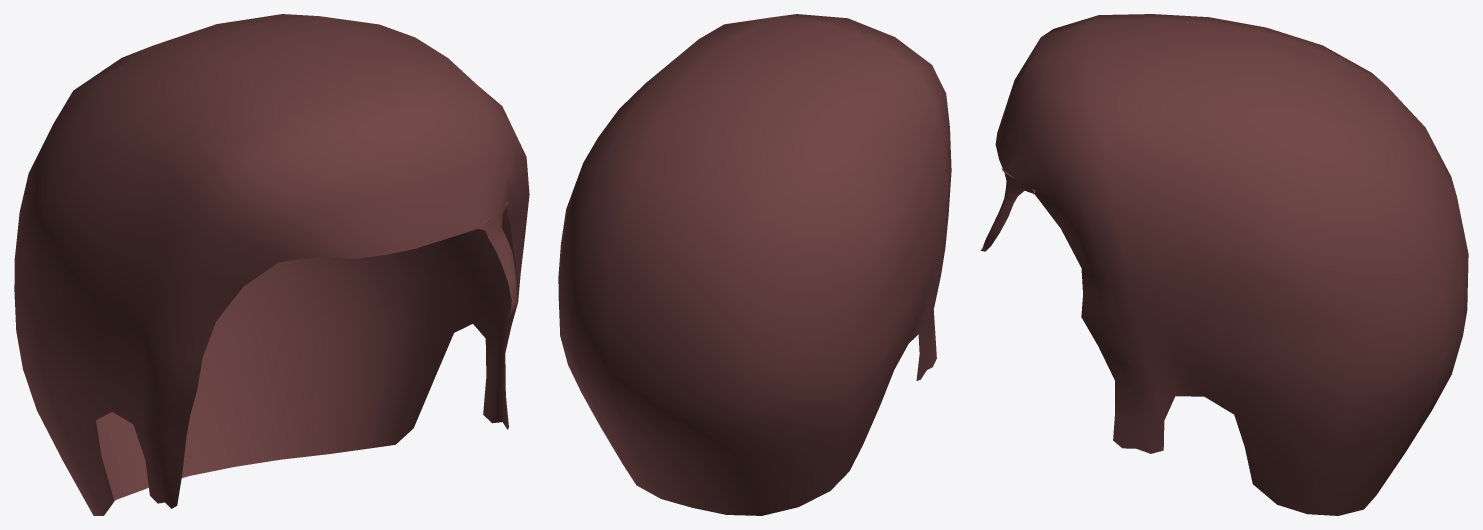
Rendered from A_HumanMale_HairModel_0.fbx.
The picture shows the model from 3 angles, left to right: view 1: azimuth 30°, elevation 25°; view 2: azimuth 150°, elevation 25°; view 3: azimuth 270°, elevation 25°; orthographic projection. The views are drawn at different scales.
Parts seen in each view (by area): view 1: A_HumanMale_HairModel_0_LOD0; view 2: A_HumanMale_HairModel_0_LOD0; view 3: A_HumanMale_HairModel_0_LOD0.
Boxes of the visible parts, <box> form: A_HumanMale_HairModel_0_LOD0: <box>14,14,529,515</box>; A_HumanMale_HairModel_0_LOD0: <box>558,14,951,515</box>; A_HumanMale_HairModel_0_LOD0: <box>980,14,1468,515</box>.
Size of what is drawn, in the model's own units: 0.2009 by 0.2409 by 0.2453.
